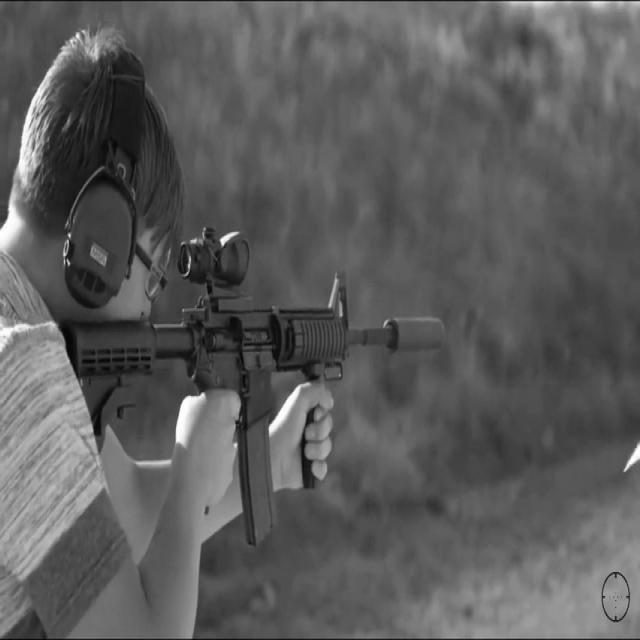Sniper: (78, 218, 441, 550)
